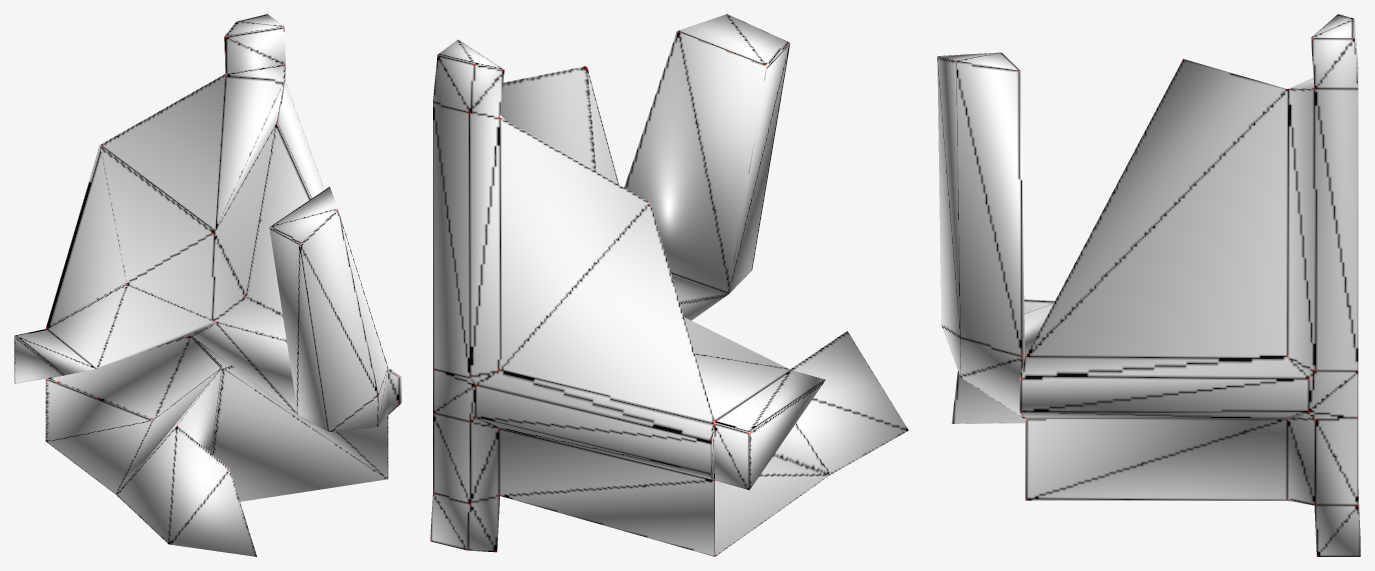
Rendered from building_tower_front1.fbx.
3 views of the same model, side by side, from view 1: azimuth 30°, elevation 25°; view 2: azimuth 150°, elevation 25°; view 3: azimuth 270°, elevation 25° (orthographic). The views are drawn at different scales.
Visible parts, largest first — view 1: 1; view 2: 1; view 3: 1.
Part boxes in pixels (bbox=[...]): 1: bbox=[14, 14, 401, 556]; 1: bbox=[430, 14, 908, 556]; 1: bbox=[937, 14, 1360, 556].
Bounding box in the file's own units: 1.09 × 1.59 × 1.17.
1 material, 1 textured.
